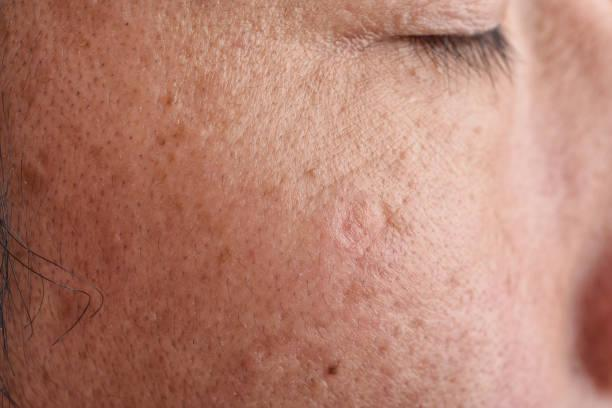Dry-Skin: (76, 79, 508, 408)
